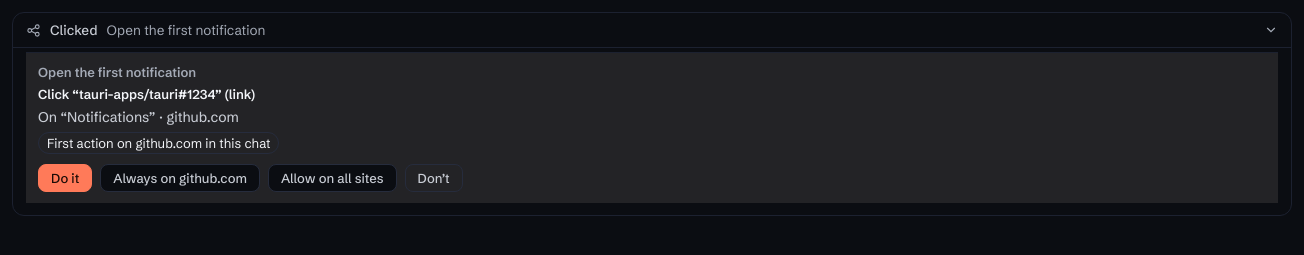
it: ToolCallBlock browser approval › says so when the answer could not be sent
The width and height of the screenshot is (1304, 255).
Click the button "Do it" at (65, 178), box top-left (38, 164), bottom-right (92, 192)
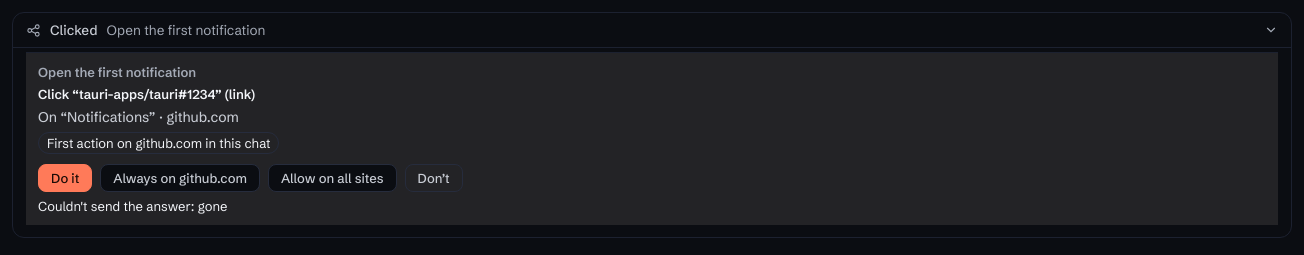
Now the message shows "gone", box top-left (38, 198), bottom-right (228, 214)
